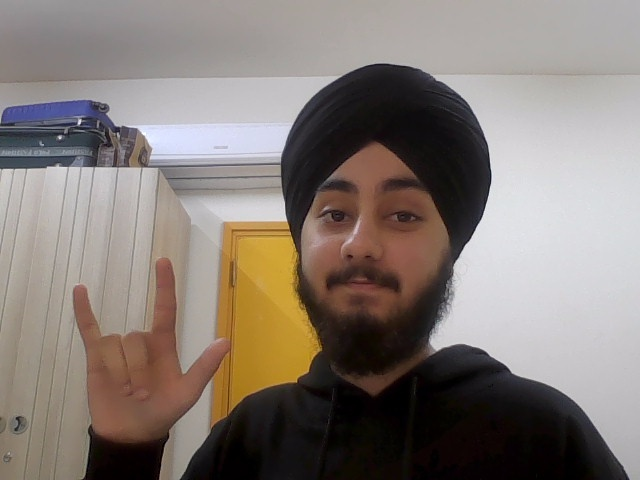ILoveYou: (66, 255, 233, 440)
